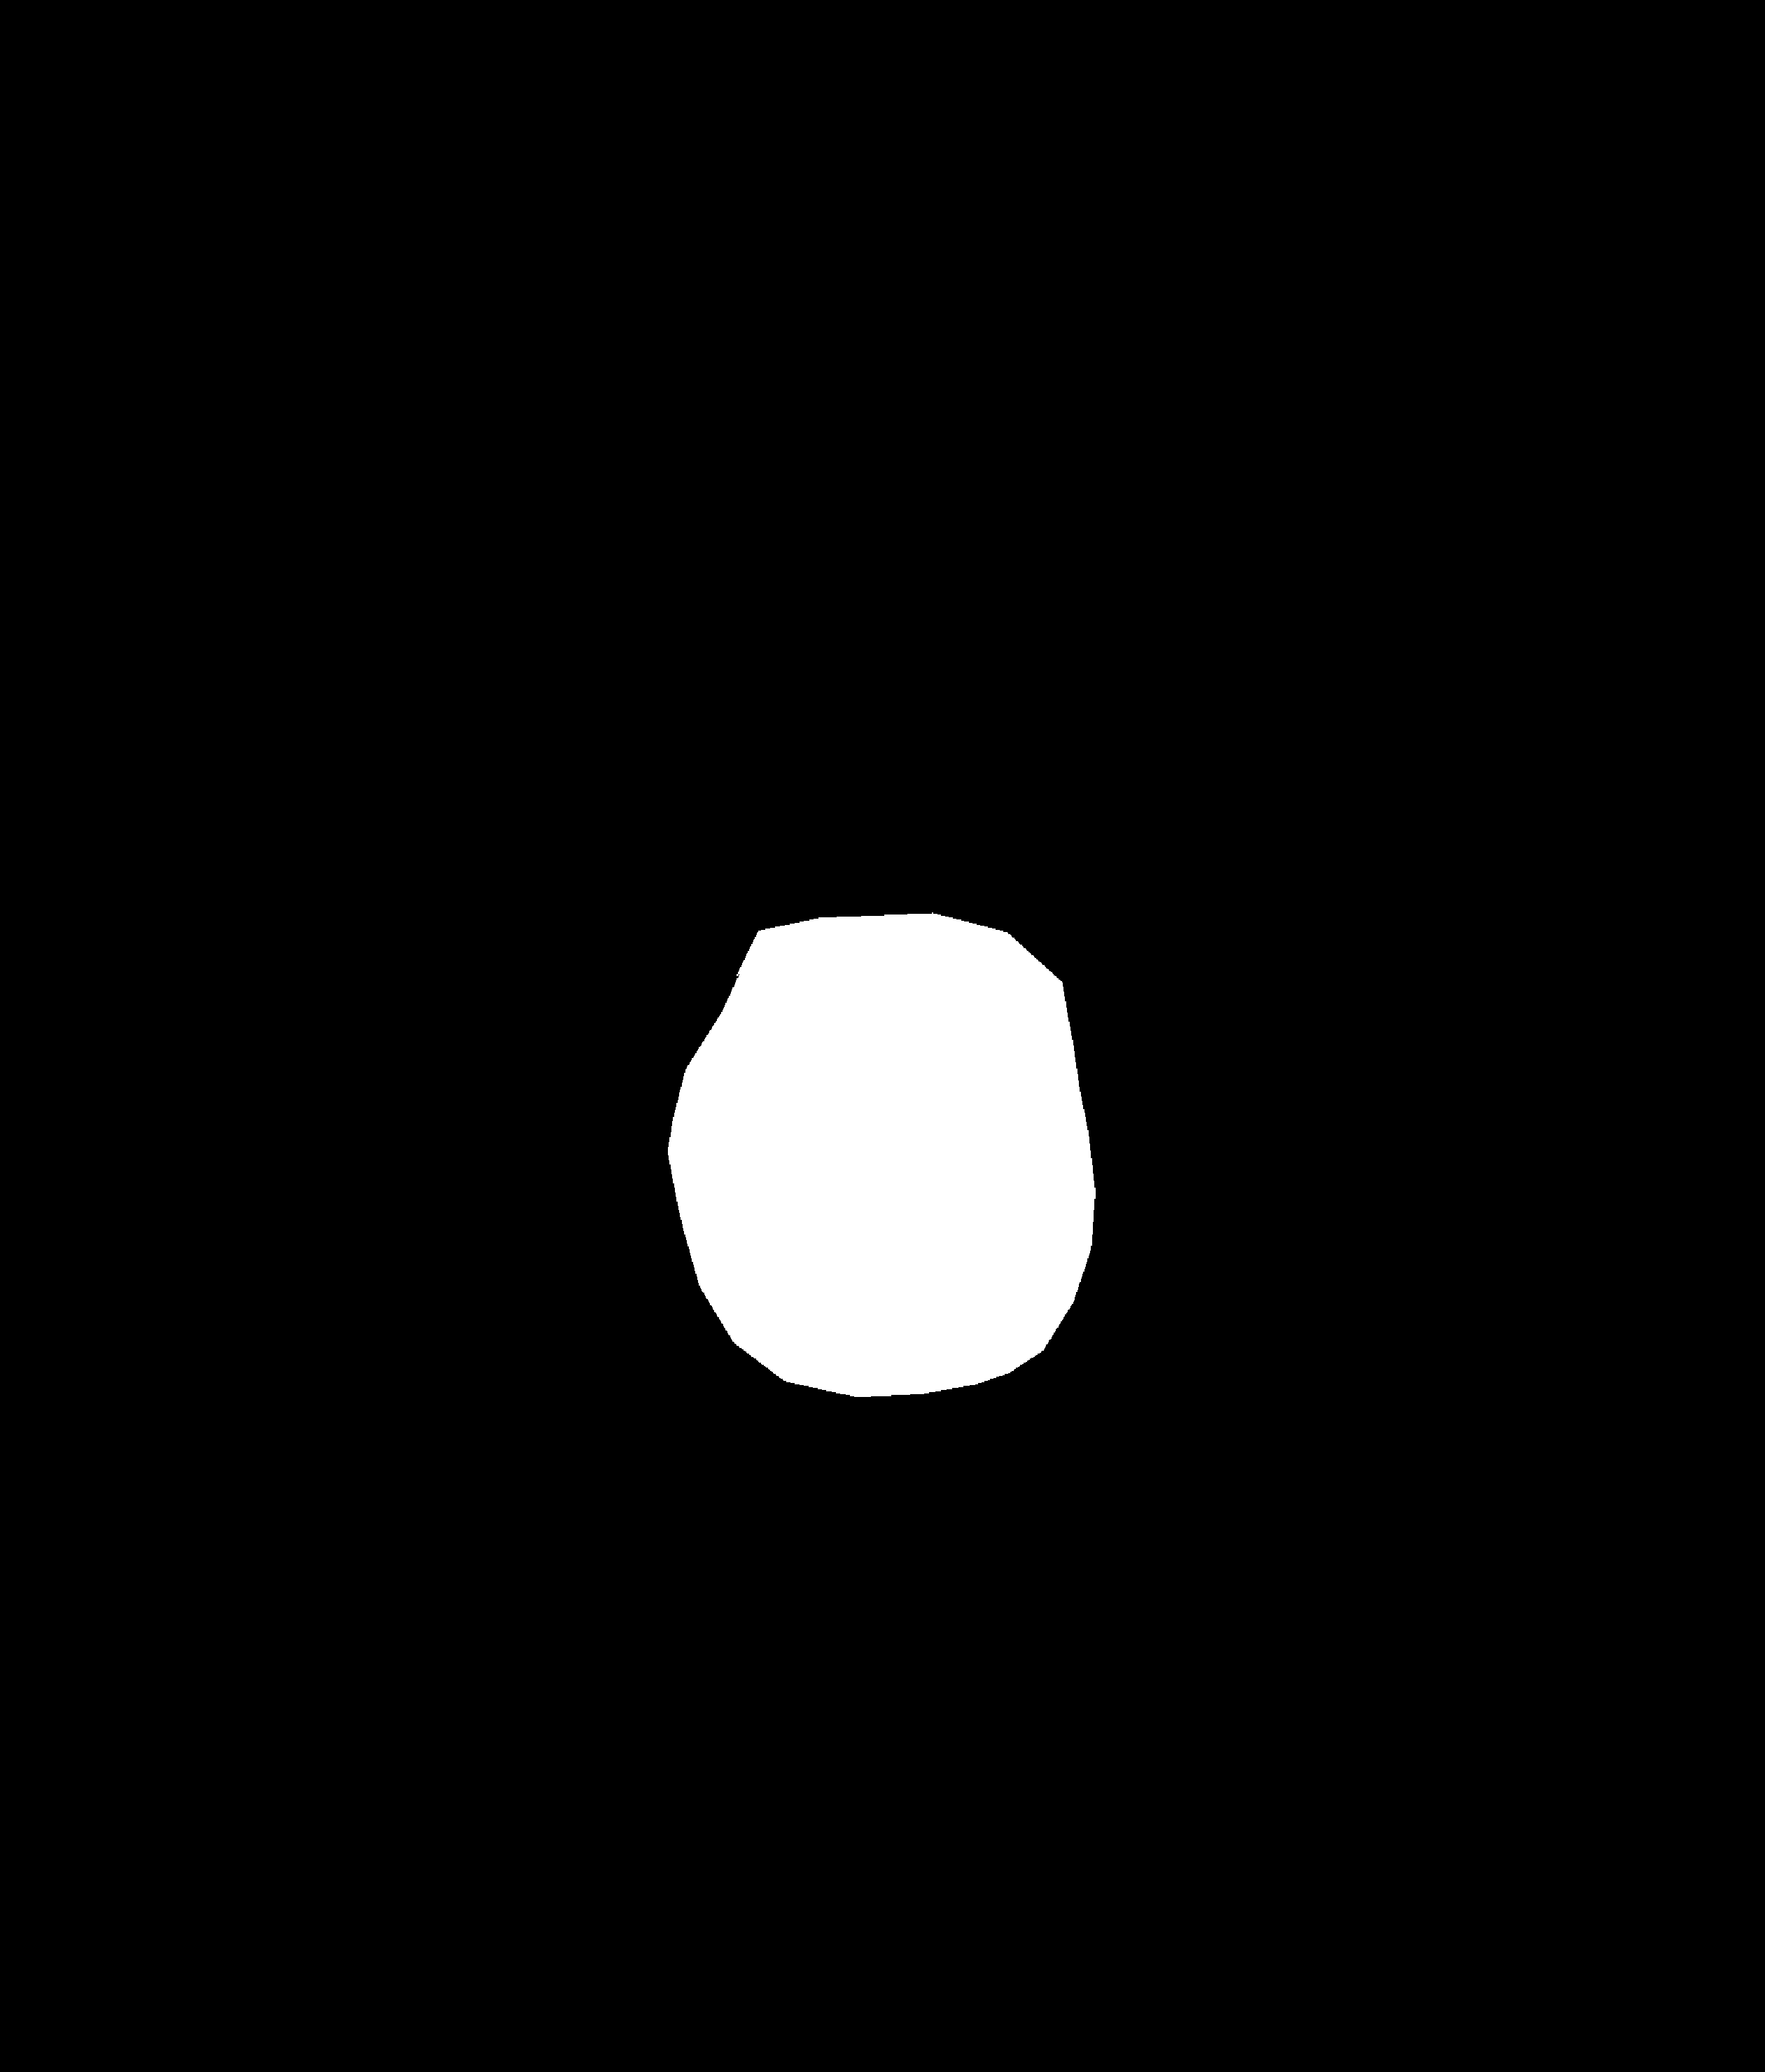heart: (671, 939, 1434, 1373)
left_lung: (159, 308, 823, 1447)
right_lung: (1005, 240, 1597, 1466)
